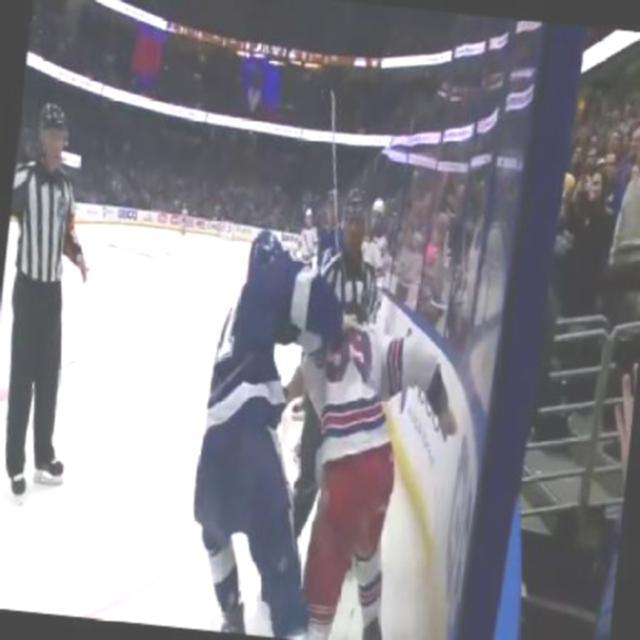non-fight: (178, 224, 477, 638), (0, 97, 114, 511)
